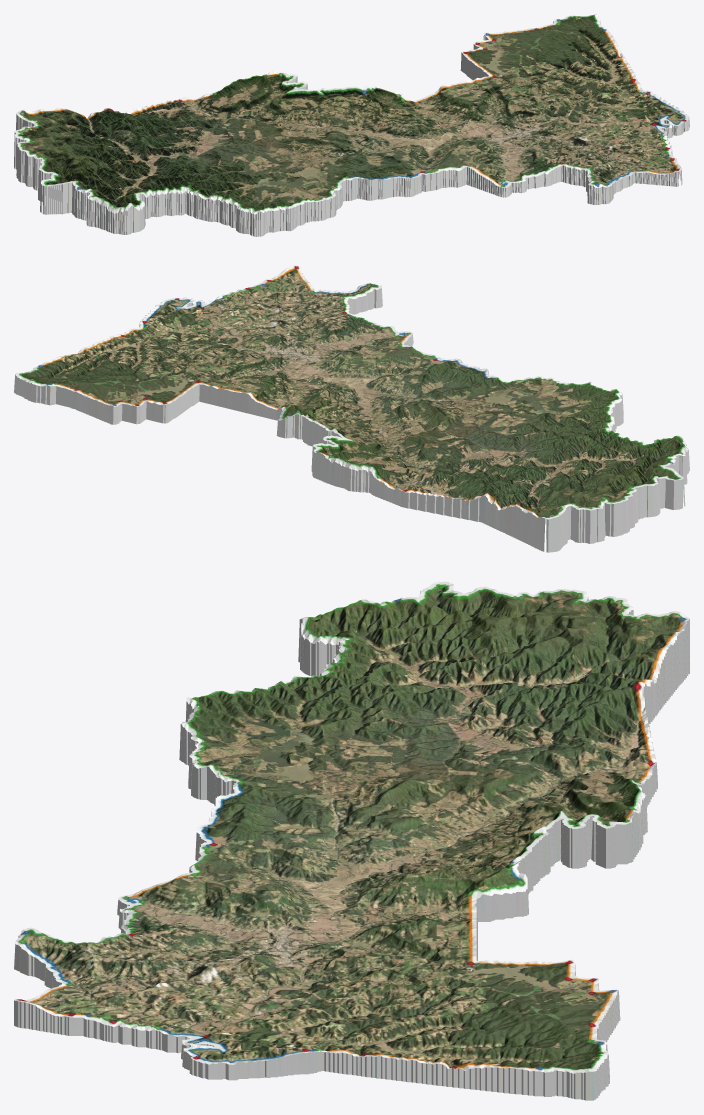
3 views of the same model, one above another, from view 1: azimuth 30°, elevation 25°; view 2: azimuth 150°, elevation 25°; view 3: azimuth 270°, elevation 25° (orthographic). The views are drawn at different scales.
Size of the model in its own units: 1 by 0.0525 by 0.6024.
1 material, 1 textured.
